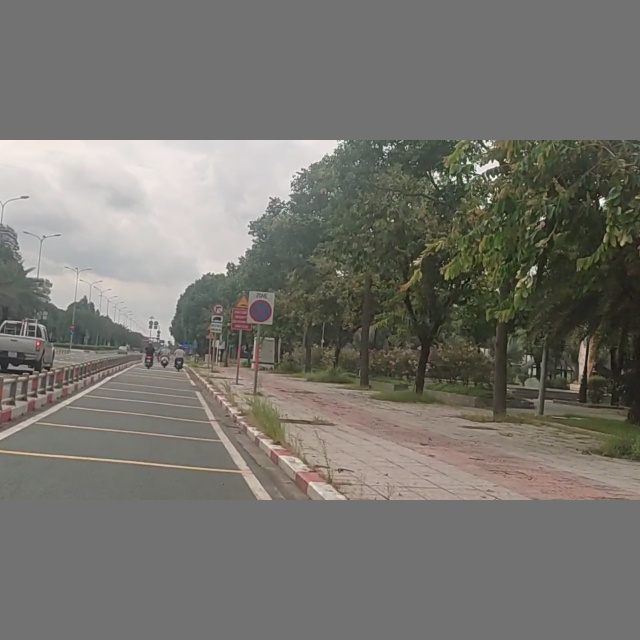P.123b: (212, 303, 224, 314)
P.130: (247, 289, 275, 325)
S.505a*Xe tai: (210, 314, 223, 333)
